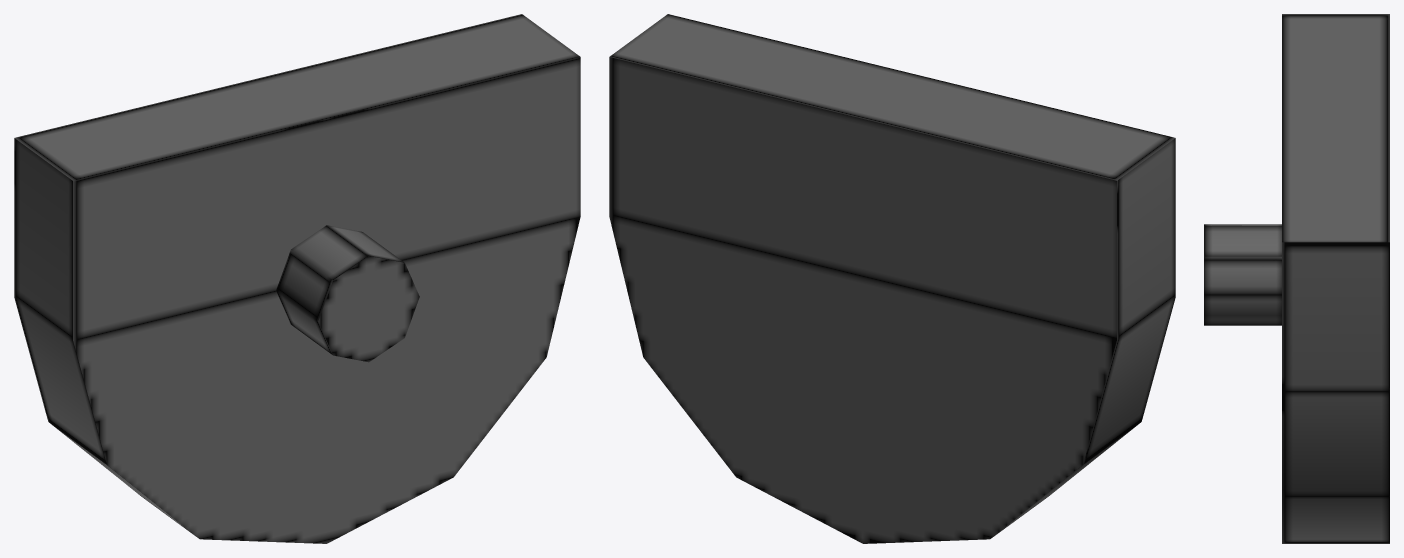
File: Tantares_Umbilical_1_Base.obj
3 renders of one model, left to right at view 1: azimuth 30°, elevation 25°; view 2: azimuth 150°, elevation 25°; view 3: azimuth 270°, elevation 25°, orthographic. The views are drawn at different scales.
Parts seen in each view (by area): view 1: Tantares_Umbilical_1_Base; view 2: Tantares_Umbilical_1_Base; view 3: Tantares_Umbilical_1_Base.
Part boxes in pixels (x1=…): Tantares_Umbilical_1_Base: x1=14, y1=14, x2=580, y2=543; Tantares_Umbilical_1_Base: x1=609, y1=14, x2=1175, y2=543; Tantares_Umbilical_1_Base: x1=1204, y1=14, x2=1389, y2=543.
Bounding box in the file's own units: 0.3125 × 0.25 × 0.1075.
1 material, 1 textured.
